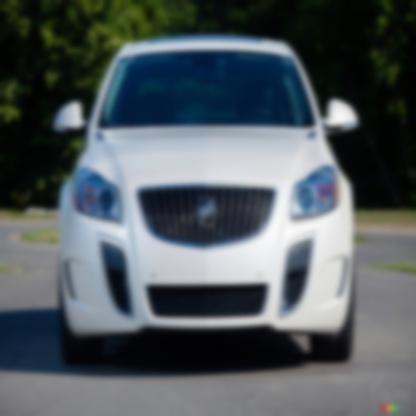Vehicle: (52, 32, 363, 370)
